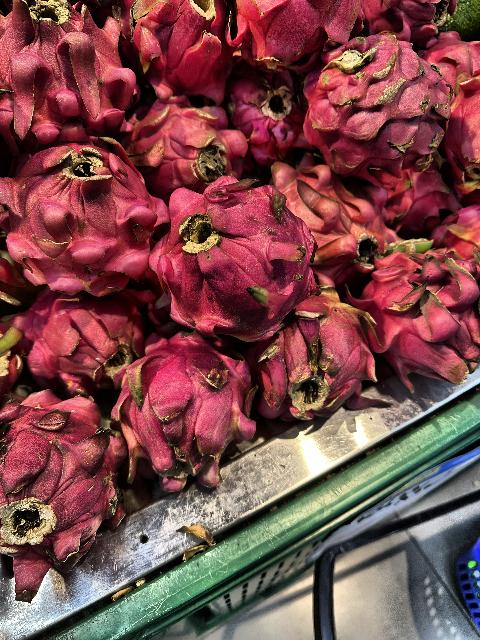buah-naga-matang: (295, 26, 465, 188), (147, 173, 318, 333), (0, 386, 130, 586), (0, 143, 174, 290), (0, 1, 142, 166), (267, 154, 399, 300), (118, 336, 248, 472), (362, 232, 480, 376), (258, 272, 376, 414), (30, 290, 148, 398), (121, 97, 251, 193), (116, 0, 236, 102)
